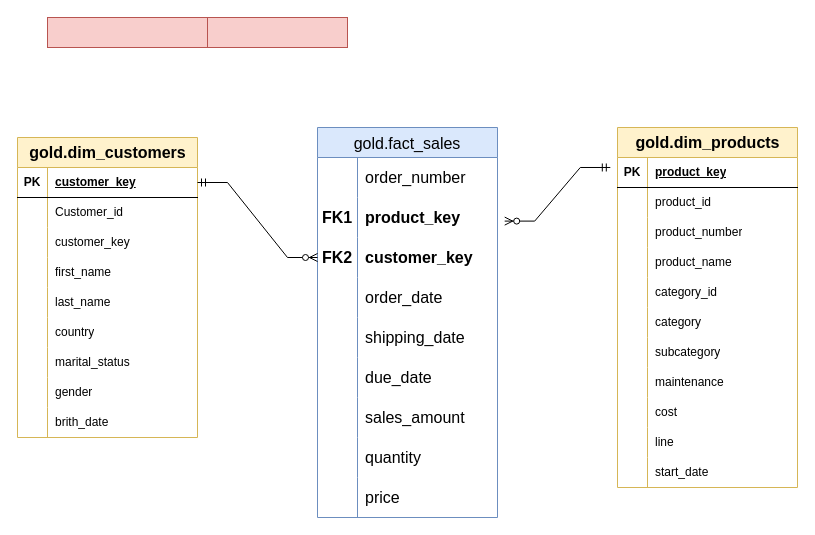
Some shapes in this 815 by 535 pixel diagram are drawn without their labels. Each missing label, with the centre of its shape:
"(Star Schema)" belongs at point 277,32.
"Sales Data Mart" belongs at point 132,32.
